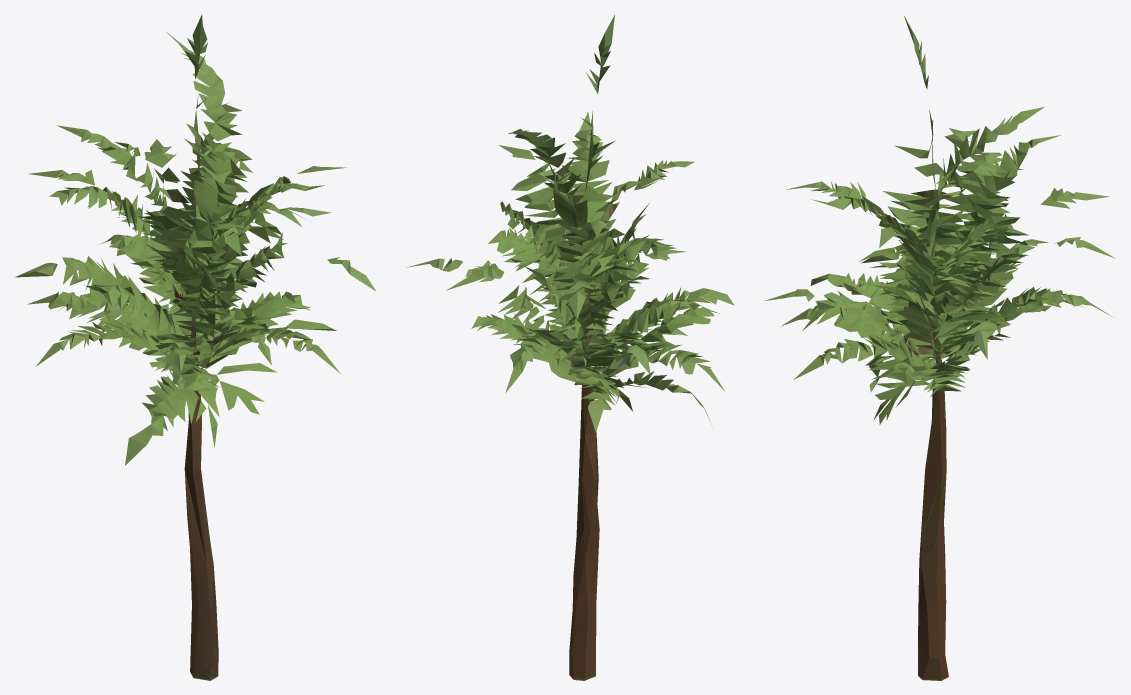
File: scene_tree_fern.glb
3 renders of one model, left to right at view 1: azimuth 30°, elevation 25°; view 2: azimuth 150°, elevation 25°; view 3: azimuth 270°, elevation 25°, orthographic. The views are drawn at different scales.
Bounding box in the file's own units: 0.9162 × 1.88 × 0.9223.
Materials: 1 (1 with a texture image).
